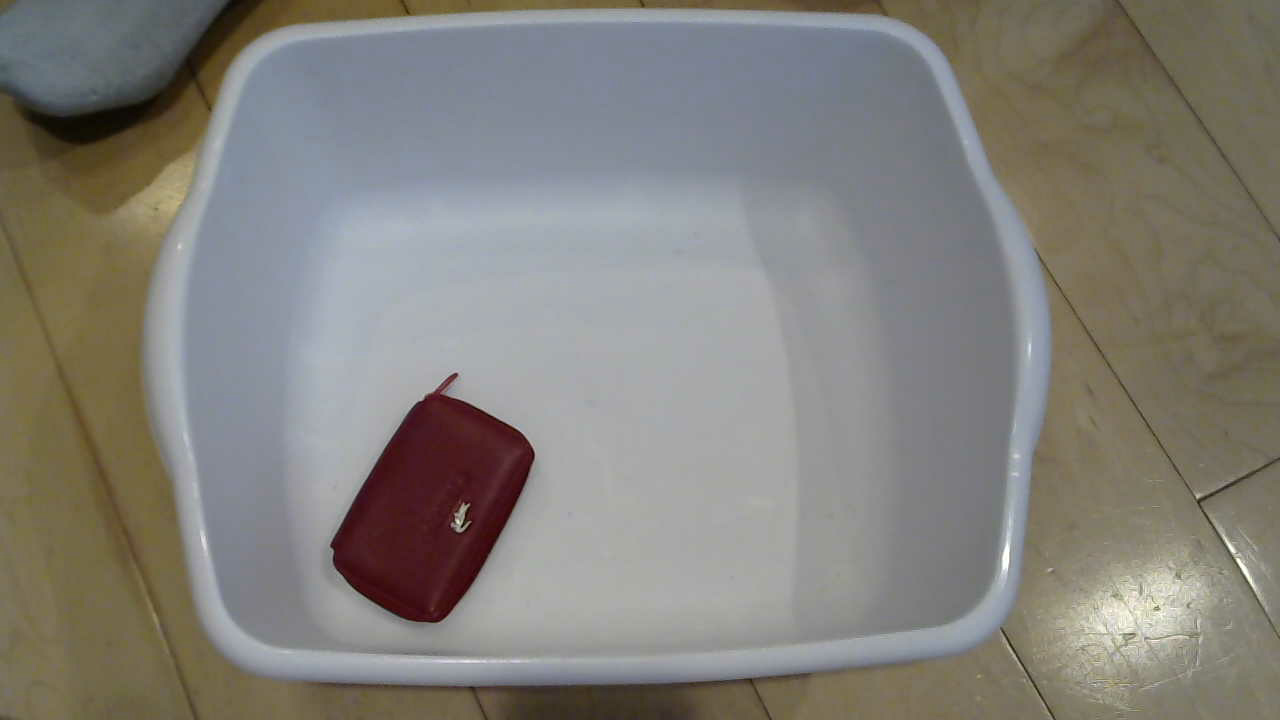wallet: (316, 390, 552, 630)
